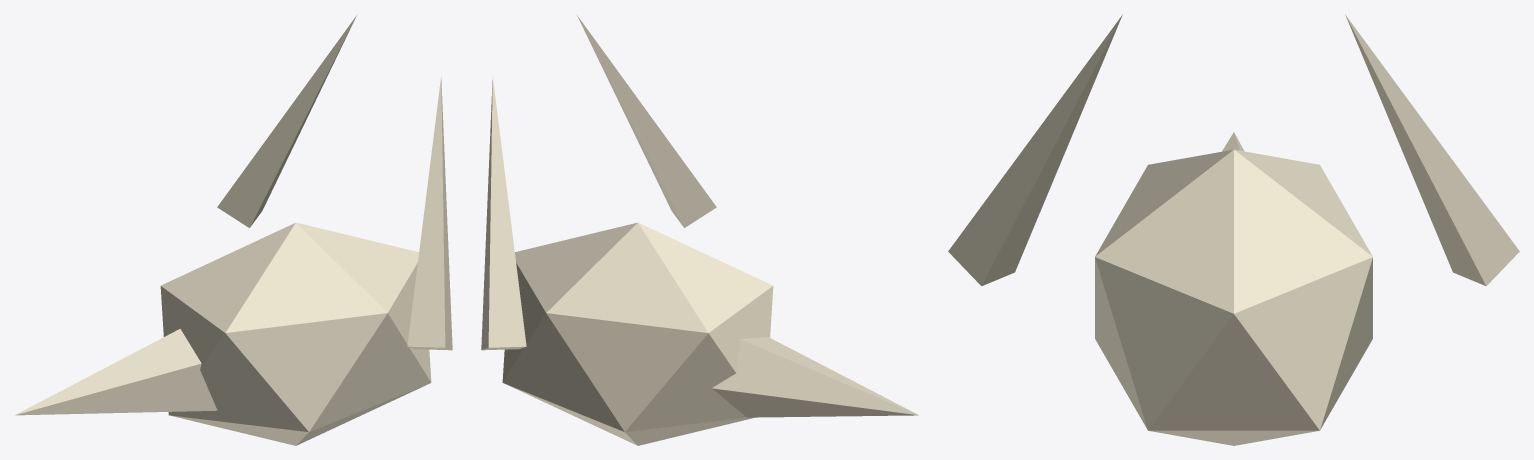
Rendered from animal_skull.fbx.
The picture shows the model from 3 angles, left to right: view 1: azimuth 30°, elevation 25°; view 2: azimuth 150°, elevation 25°; view 3: azimuth 270°, elevation 25°; orthographic projection. The views are drawn at different scales.
Parts seen in each view (by area): view 1: animal_skull; view 2: animal_skull; view 3: animal_skull.
Part boxes in pixels (box(x1,y1,x2,y2)): animal_skull: box(15, 15, 452, 445); animal_skull: box(481, 15, 918, 445); animal_skull: box(948, 14, 1519, 445).
Bounding box in the file's own units: 0.6897 × 0.606 × 0.6295.
